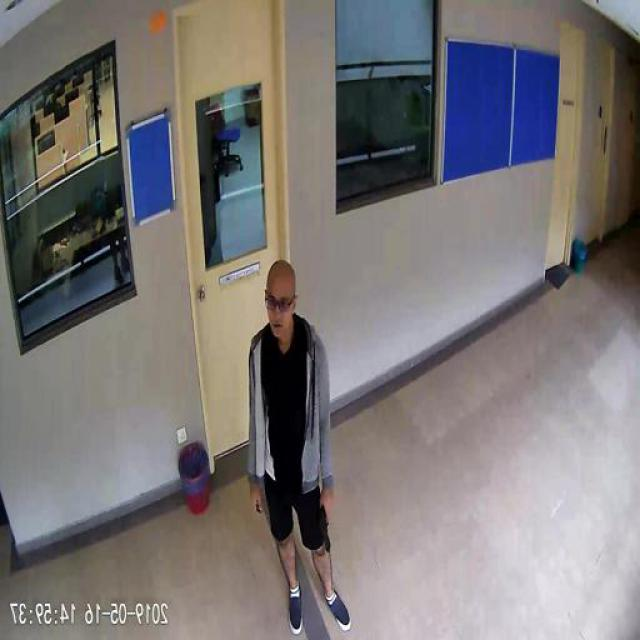Gun: (320, 495, 335, 549)
